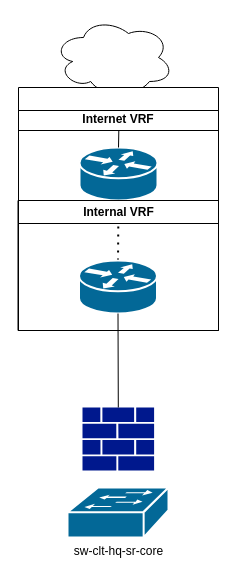
The diagram is 236 pixels wide and 576 high, and some of its shapes have lost their labels. The centre of each missing label's shape, as x and y in pixels:
"Internet" goes at point (113, 57).
"Router" goes at point (118, 208).
